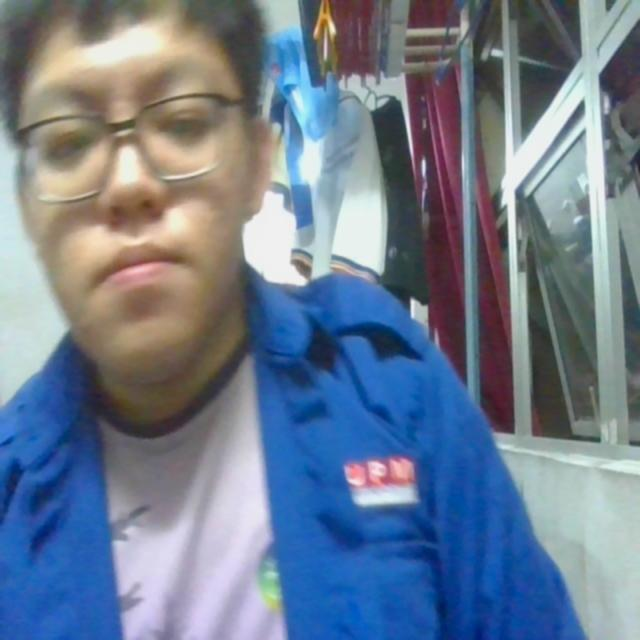person_with_labcoat: (0, 0, 587, 639)
